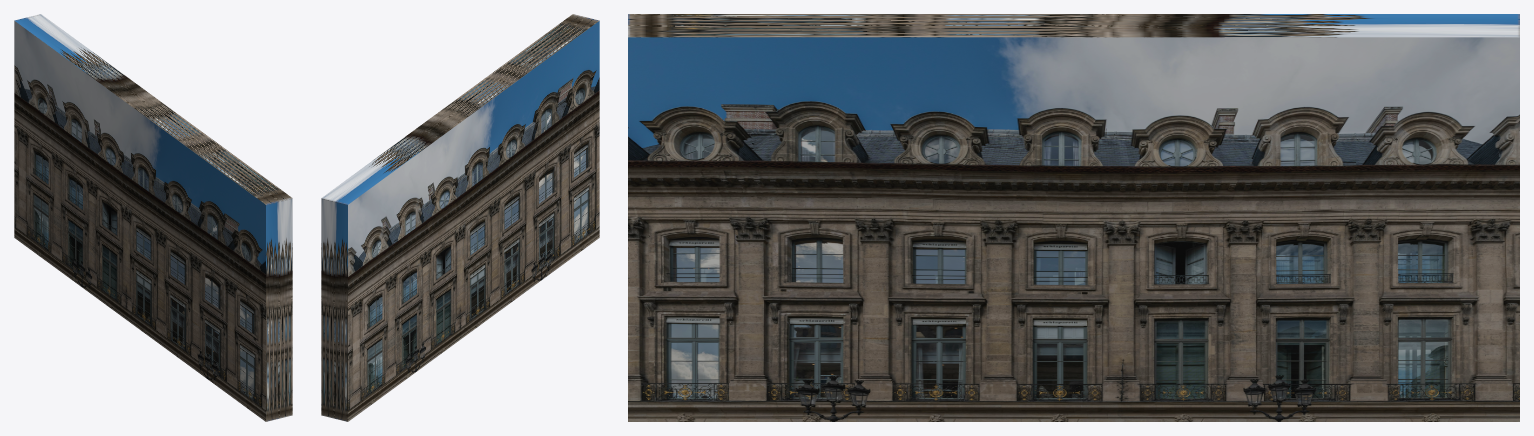
The model's file is imagewall1_2.fbx.
3 views of the same model, side by side, from view 1: azimuth 30°, elevation 25°; view 2: azimuth 150°, elevation 25°; view 3: azimuth 270°, elevation 25° (orthographic). The views are drawn at different scales.
Visible parts, largest first — view 1: Cube; view 2: Cube; view 3: Cube.
Part boxes in pixels (bbox=[...]): Cube: bbox=[14, 14, 292, 421]; Cube: bbox=[321, 14, 599, 421]; Cube: bbox=[628, 14, 1519, 421].
Bounding box in the file's own units: 72 × 556 × 1168.
